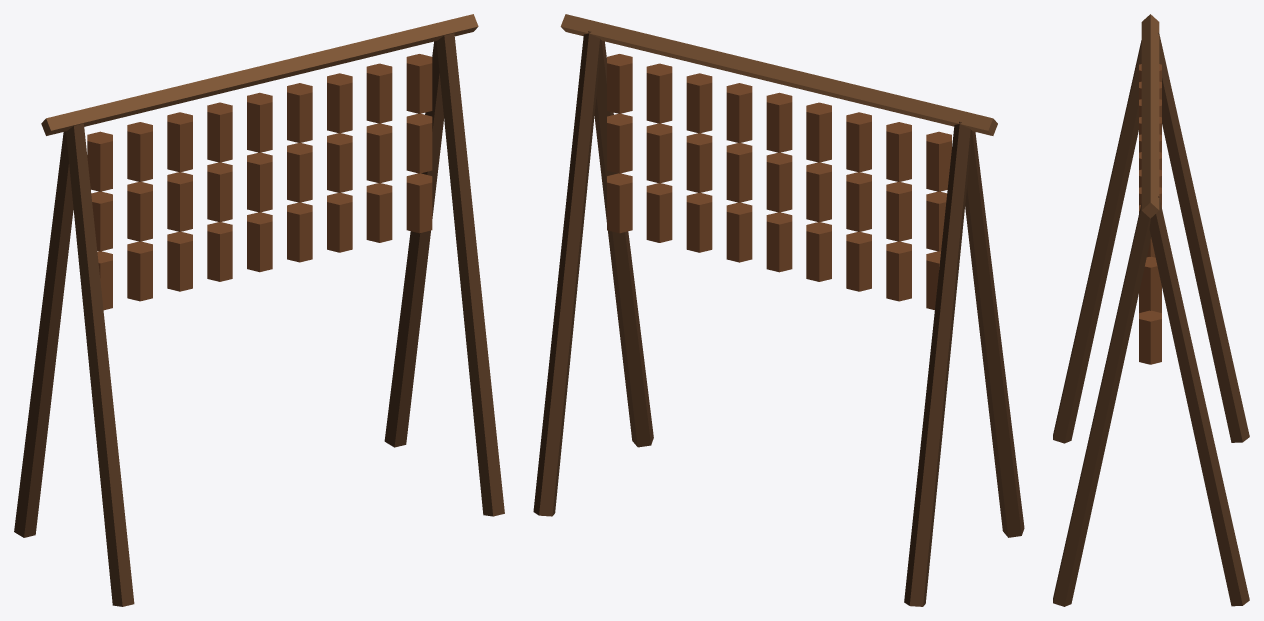
Rendered from pile_smoked_3.glb.
The picture shows the model from 3 angles, left to right: view 1: azimuth 30°, elevation 25°; view 2: azimuth 150°, elevation 25°; view 3: azimuth 270°, elevation 25°; orthographic projection. The views are drawn at different scales.
Parts seen in each view (by area): view 1: pile_smoked_3; view 2: pile_smoked_3; view 3: pile_smoked_3.
Boxes of the visible parts, x1,y1,x2,y2 form: pile_smoked_3: [14, 14, 504, 606]; pile_smoked_3: [533, 14, 1024, 606]; pile_smoked_3: [1053, 14, 1249, 606].
Size of the model in its own units: 1.5 by 1.54 by 0.6621.
